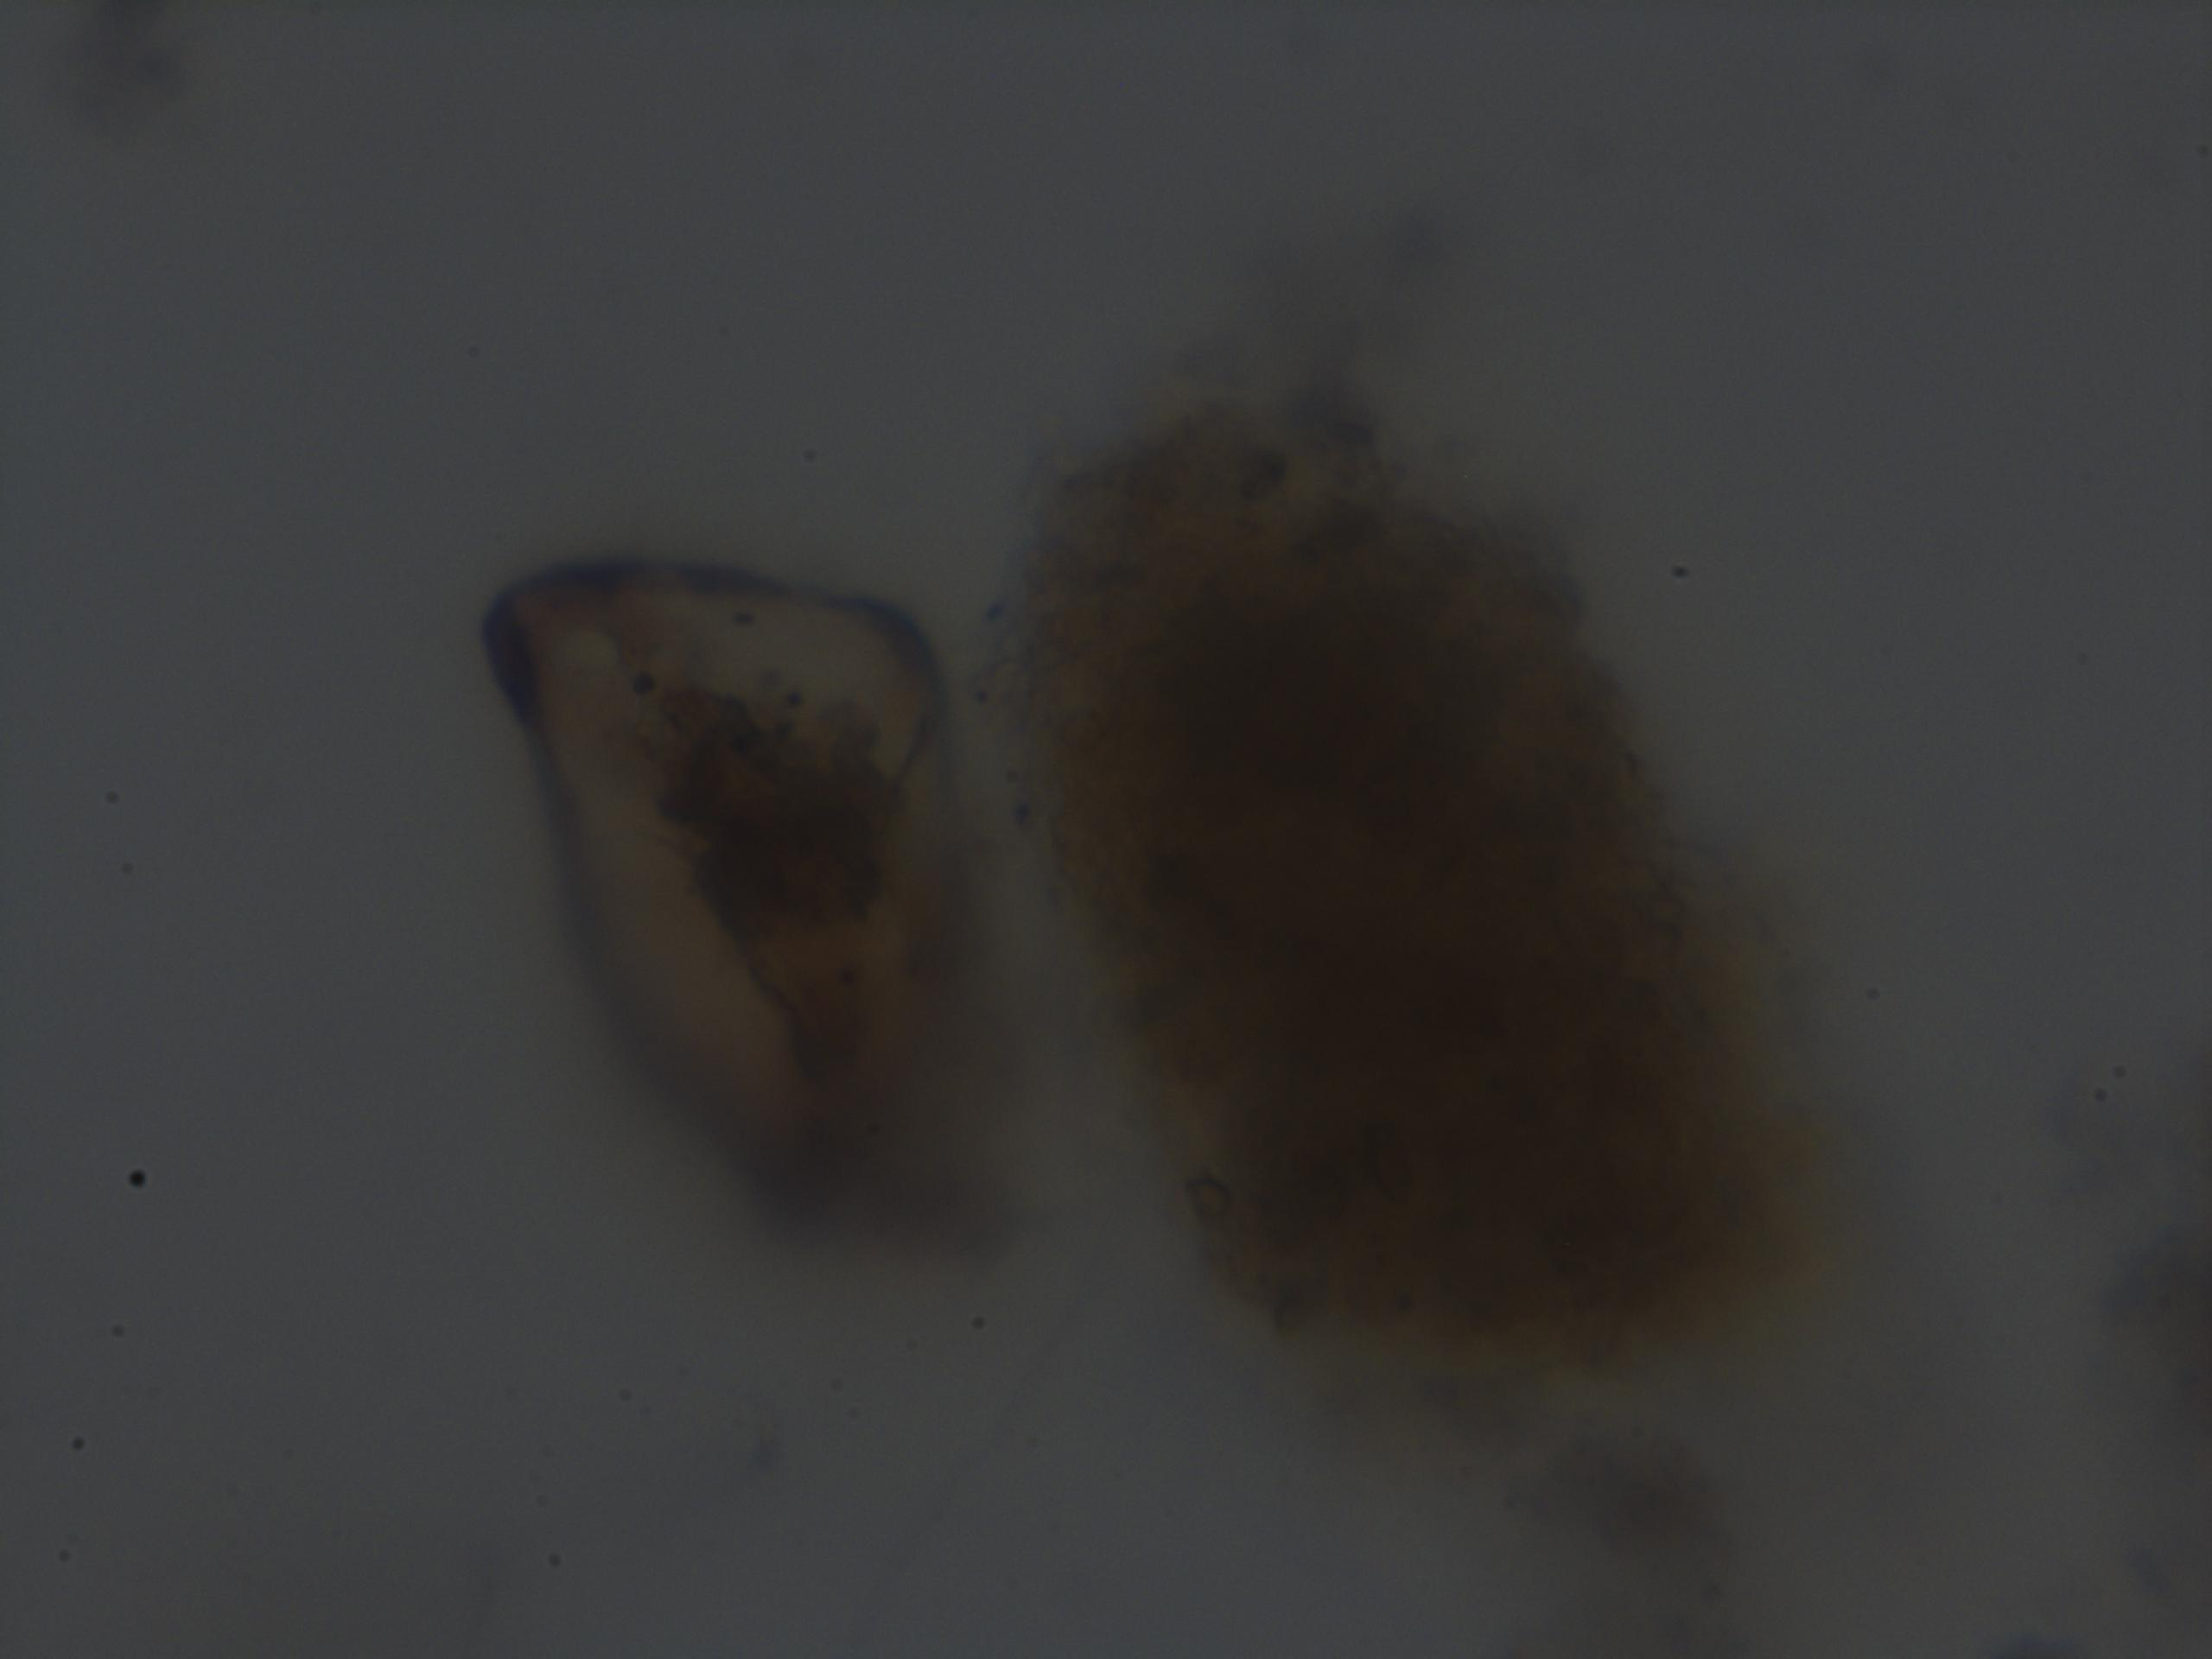spherical_floc: (1012, 369, 1844, 1375)
